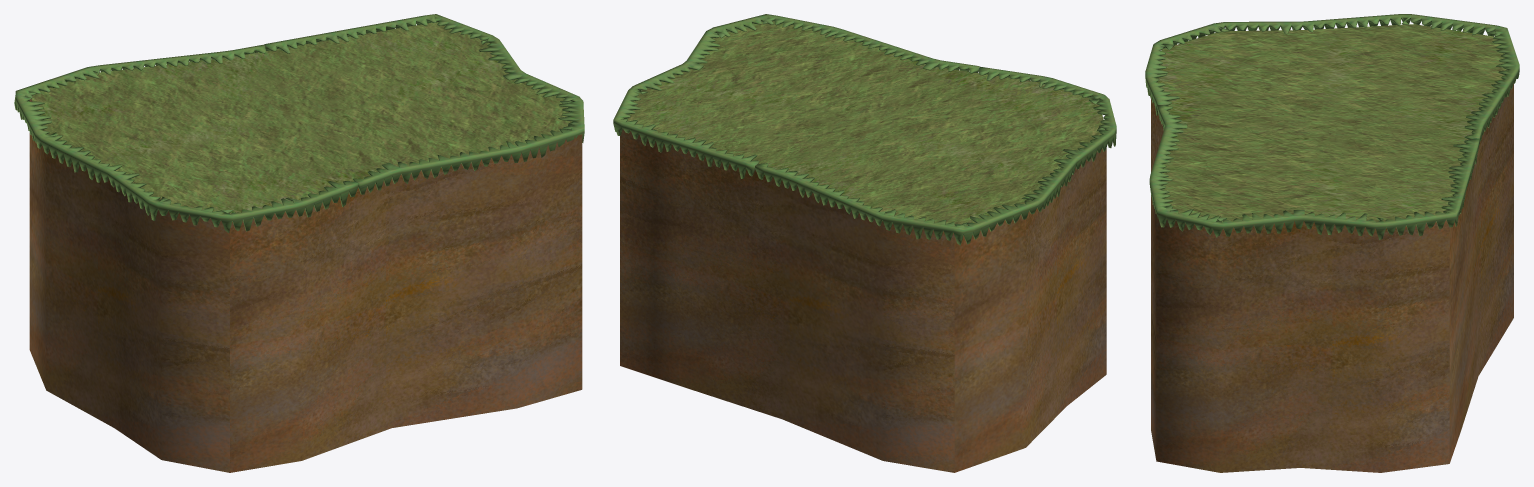
The model's file is Two_level_cliff_01.FBX.
The picture shows the model from 3 angles, left to right: view 1: azimuth 30°, elevation 25°; view 2: azimuth 150°, elevation 25°; view 3: azimuth 270°, elevation 25°; orthographic projection. The views are drawn at different scales.
Visible parts, largest first — view 1: Box004, Box003, Box006; view 2: Box004, Box003, Box006; view 3: Box004, Box006, Box003.
Boxes of the visible parts, bbox=[...] form: Box004: bbox=[29, 22, 582, 472]; Box003: bbox=[14, 44, 358, 232]; Box006: bbox=[264, 14, 584, 194]; Box004: bbox=[620, 21, 1106, 472]; Box003: bbox=[755, 66, 1116, 245]; Box006: bbox=[613, 14, 979, 178]; Box004: bbox=[1151, 24, 1513, 472]; Box006: bbox=[1149, 105, 1479, 239]; Box003: bbox=[1145, 14, 1519, 144].
Bounding box in the file's own units: 4.61 × 2.56 × 3.46.
